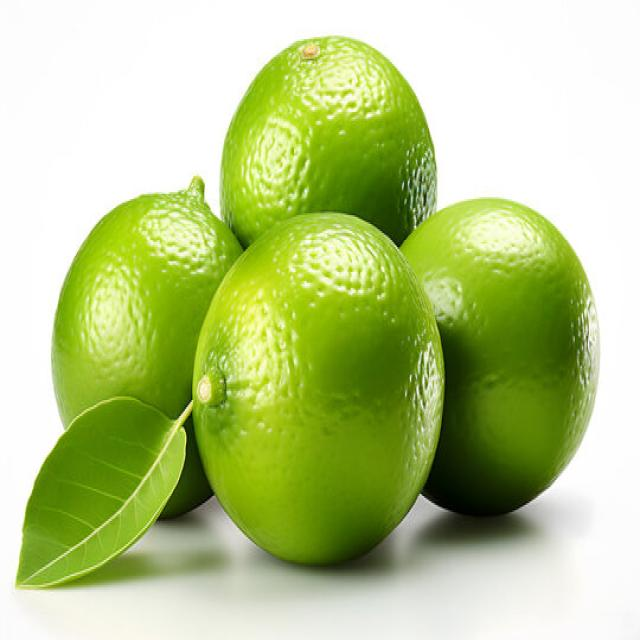Lemon: (190, 210, 446, 565), (50, 173, 243, 519), (398, 195, 600, 518), (218, 34, 437, 249)
